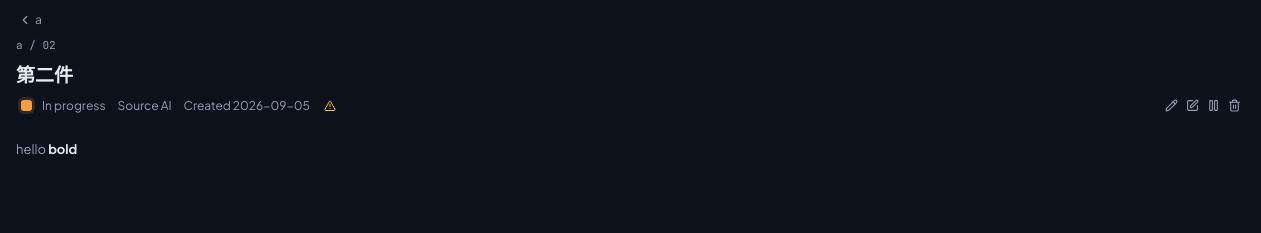
Test case: TaskDetail › 票：anomalies 有值時畫記號，點開列出原因
Click the button named "Something is off with this file" at (330, 106), box [322,98,338,114]
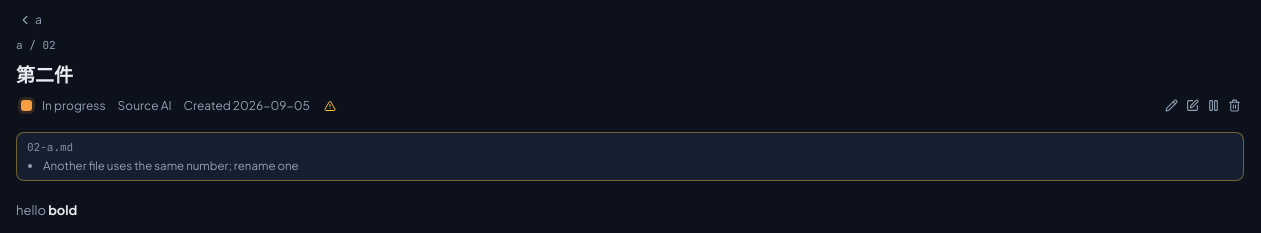
Result: the list item "Another file uses the same number; rename one" is shown at [43,158,299,173]
